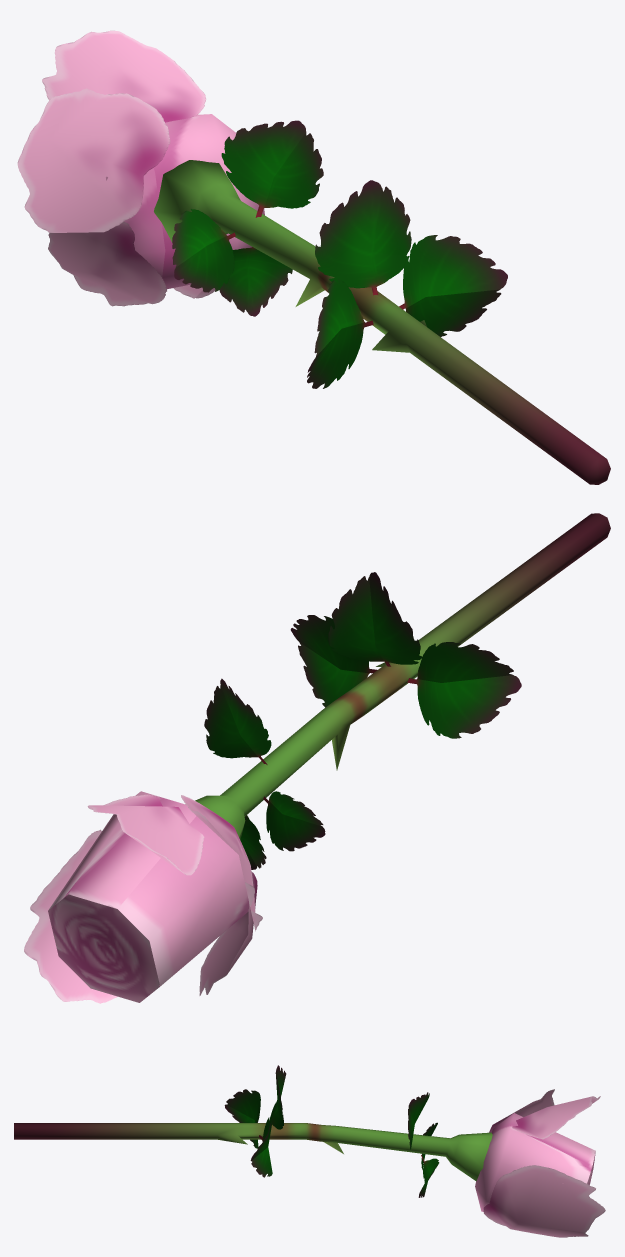
The model's file is SM_Rose_PastellPink_Closed.fbx.
The picture shows the model from 3 angles, top to bottom: view 1: azimuth 30°, elevation 25°; view 2: azimuth 150°, elevation 25°; view 3: azimuth 270°, elevation 25°; orthographic projection. The views are drawn at different scales.
Parts seen in each view (by area): view 1: Rose_PastellPink_Closed; view 2: Rose_PastellPink_Closed; view 3: Rose_PastellPink_Closed.
Boxes of the visible parts, <box> form: Rose_PastellPink_Closed: <box>17,30,610,484</box>; Rose_PastellPink_Closed: <box>24,513,610,1003</box>; Rose_PastellPink_Closed: <box>14,1065,605,1237</box>.
Size of the model in its own units: 35.12 by 42.85 by 129.
